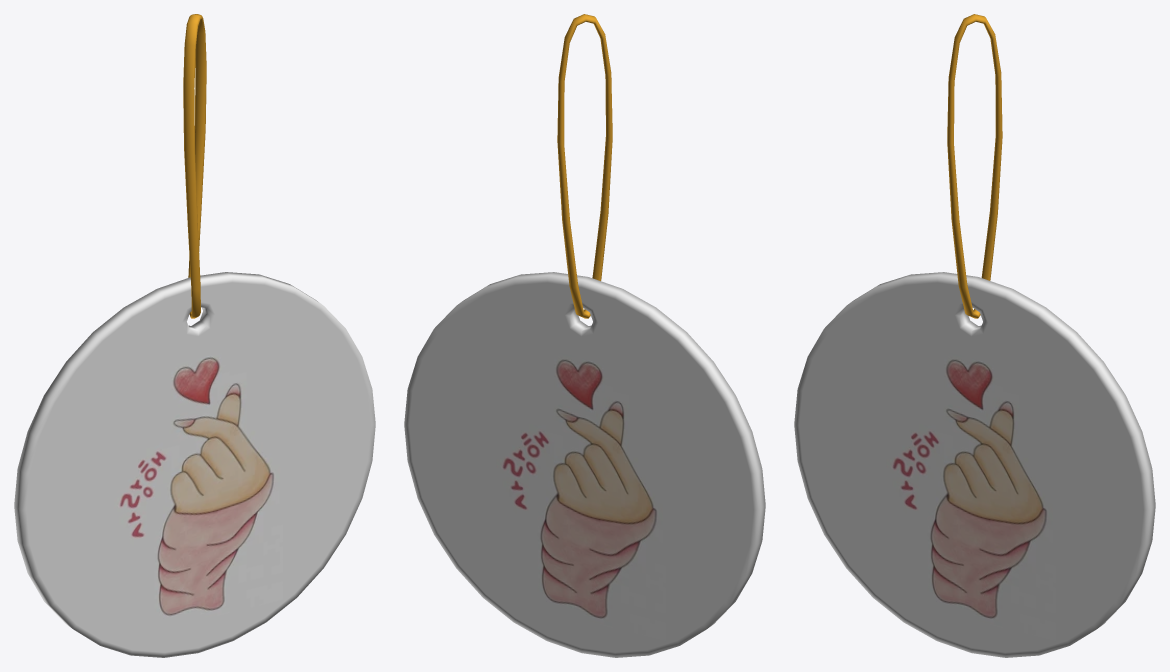
The model's file is Ball_FingerHeart.fbx.
3 renders of one model, left to right at view 1: azimuth 30°, elevation 25°; view 2: azimuth 150°, elevation 25°; view 3: azimuth 330°, elevation 25°, orthographic.
Parts seen in each view (by area): view 1: Ball_FingerHeart; view 2: Ball_FingerHeart; view 3: Ball_FingerHeart.
Boxes of the visible parts, left/top/right/bottom form: Ball_FingerHeart: left=14, top=14, right=375, bottom=657; Ball_FingerHeart: left=404, top=14, right=765, bottom=657; Ball_FingerHeart: left=794, top=14, right=1155, bottom=657.
Size of the model in its own units: 5.77 by 9.88 by 0.6661.
